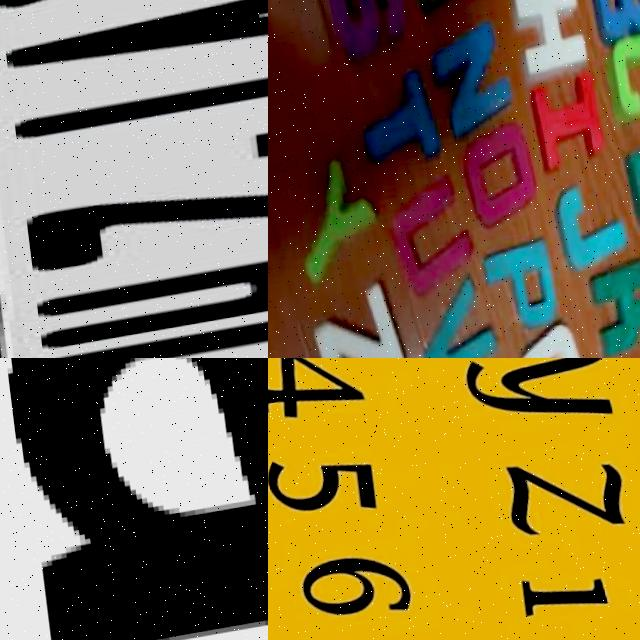1: (512, 568, 618, 636)
2: (41, 126, 268, 276)
4: (268, 358, 378, 431)
5: (268, 443, 391, 535)
6: (290, 545, 430, 636)
A: (0, 358, 268, 640)
B: (583, 0, 640, 46)
C: (601, 31, 640, 126)
D: (620, 132, 640, 227)
H: (17, 213, 268, 358), (504, 0, 589, 87)
I: (532, 75, 607, 179)
J: (550, 185, 628, 275)
K: (591, 263, 640, 358)
L: (24, 273, 268, 358)
N: (429, 17, 514, 141)
O: (462, 127, 540, 237)
P: (474, 242, 560, 337)
Q: (502, 327, 591, 358)
S: (321, 0, 409, 65)
T: (22, 21, 268, 155), (354, 69, 442, 172)
U: (384, 173, 475, 298)
V: (0, 0, 268, 104), (414, 277, 500, 358)
Y: (288, 159, 383, 285)
Z: (308, 286, 408, 358)
